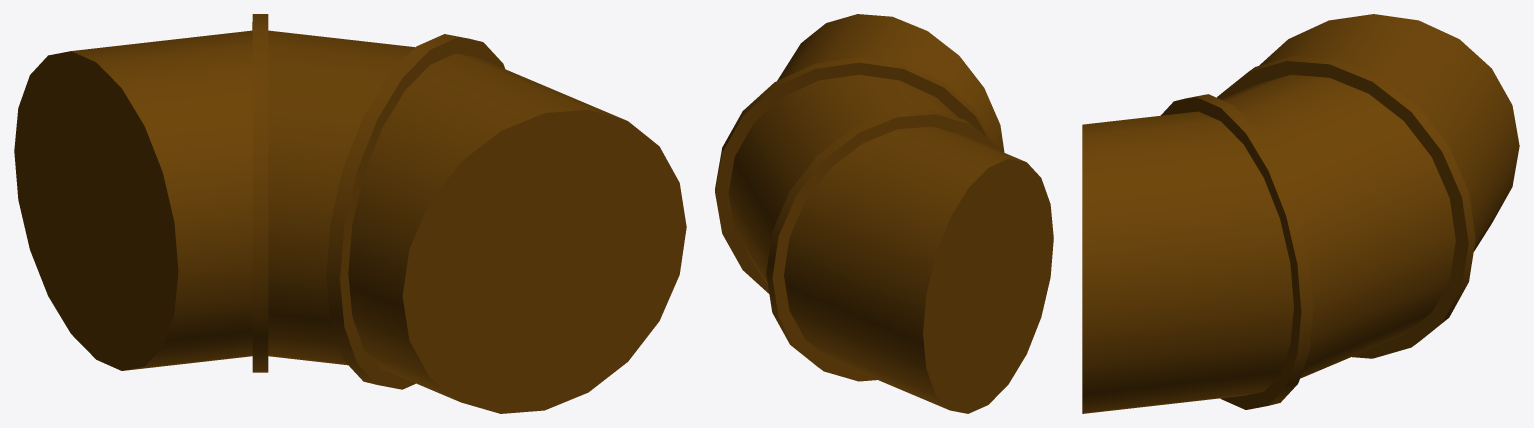
The model's file is AIR_D400_C.FBX.
The picture shows the model from 3 angles, left to right: view 1: azimuth 30°, elevation 25°; view 2: azimuth 150°, elevation 25°; view 3: azimuth 270°, elevation 25°; orthographic projection. The views are drawn at different scales.
Parts seen in each view (by area): view 1: AIR_D400_C; view 2: AIR_D400_C; view 3: AIR_D400_C.
Part boxes in pixels (<box>): AIR_D400_C: <box>14,14,686,413</box>; AIR_D400_C: <box>715,14,1053,413</box>; AIR_D400_C: <box>1082,14,1519,413</box>.
Size of the model in its own units: 60.01 by 44.06 by 60.01.
